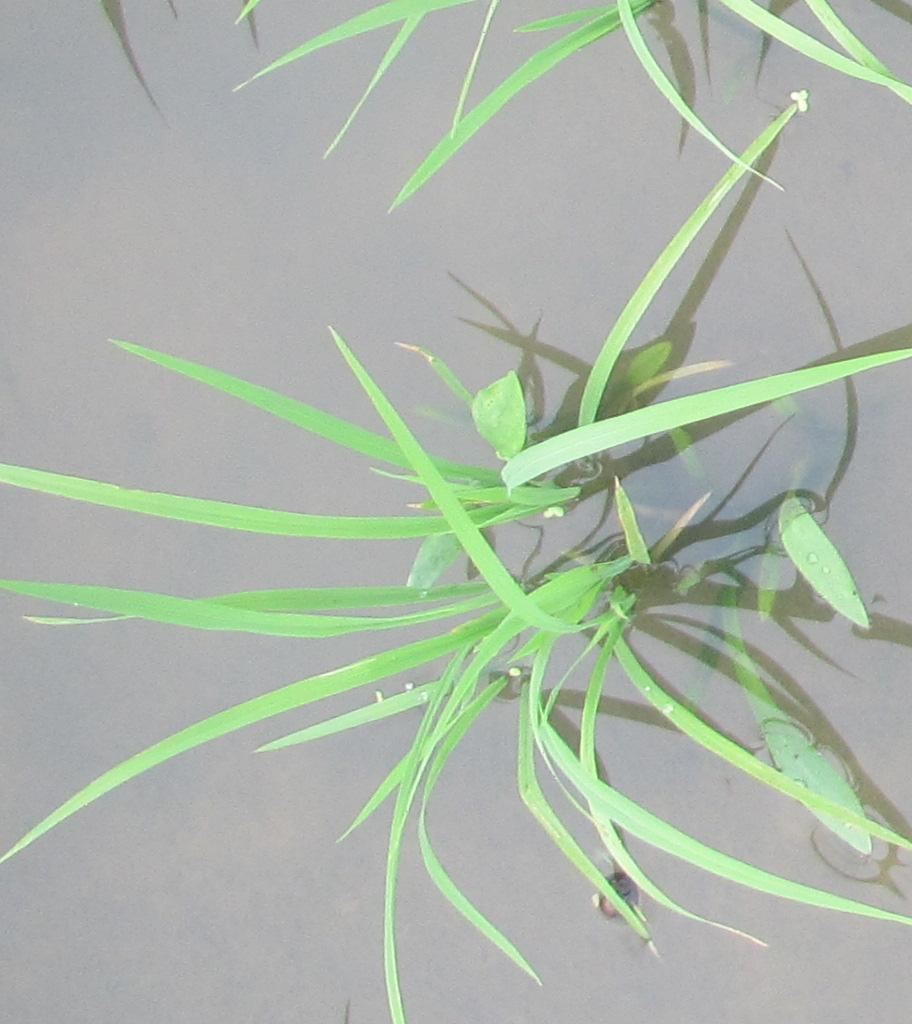Weed: (747, 711, 891, 861), (758, 488, 883, 642)
